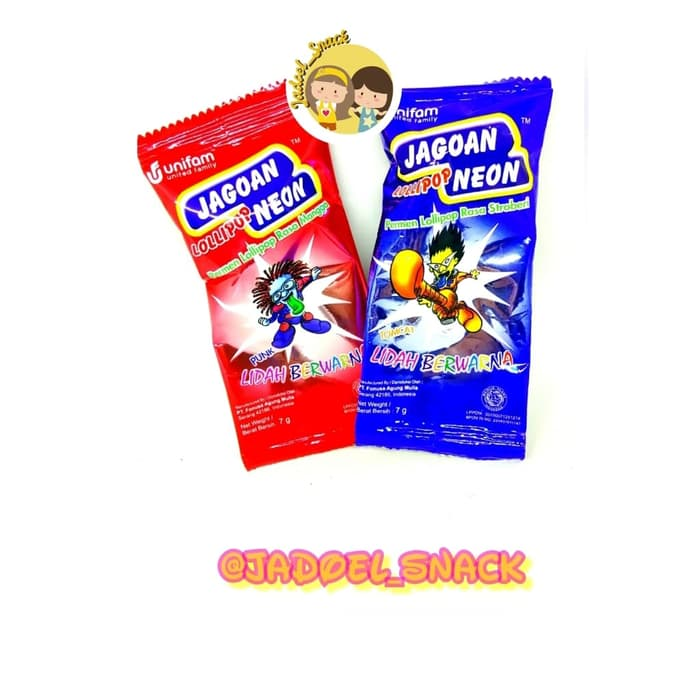jagoan_neon: (136, 78, 370, 470), (354, 77, 552, 459)
